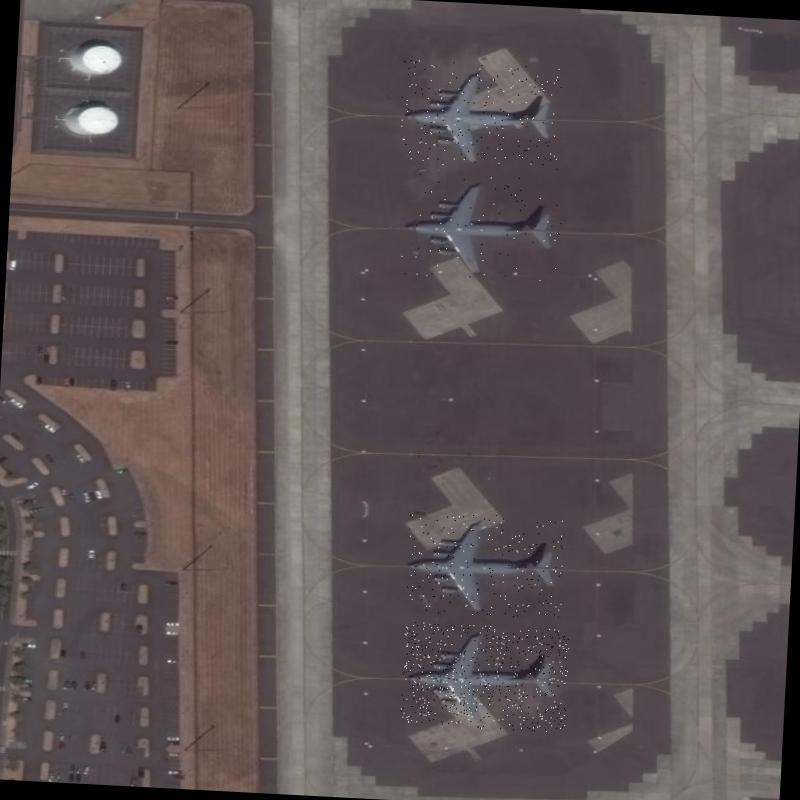A3: (400, 622, 570, 733), (398, 59, 562, 171), (401, 172, 564, 283), (405, 511, 566, 620)
